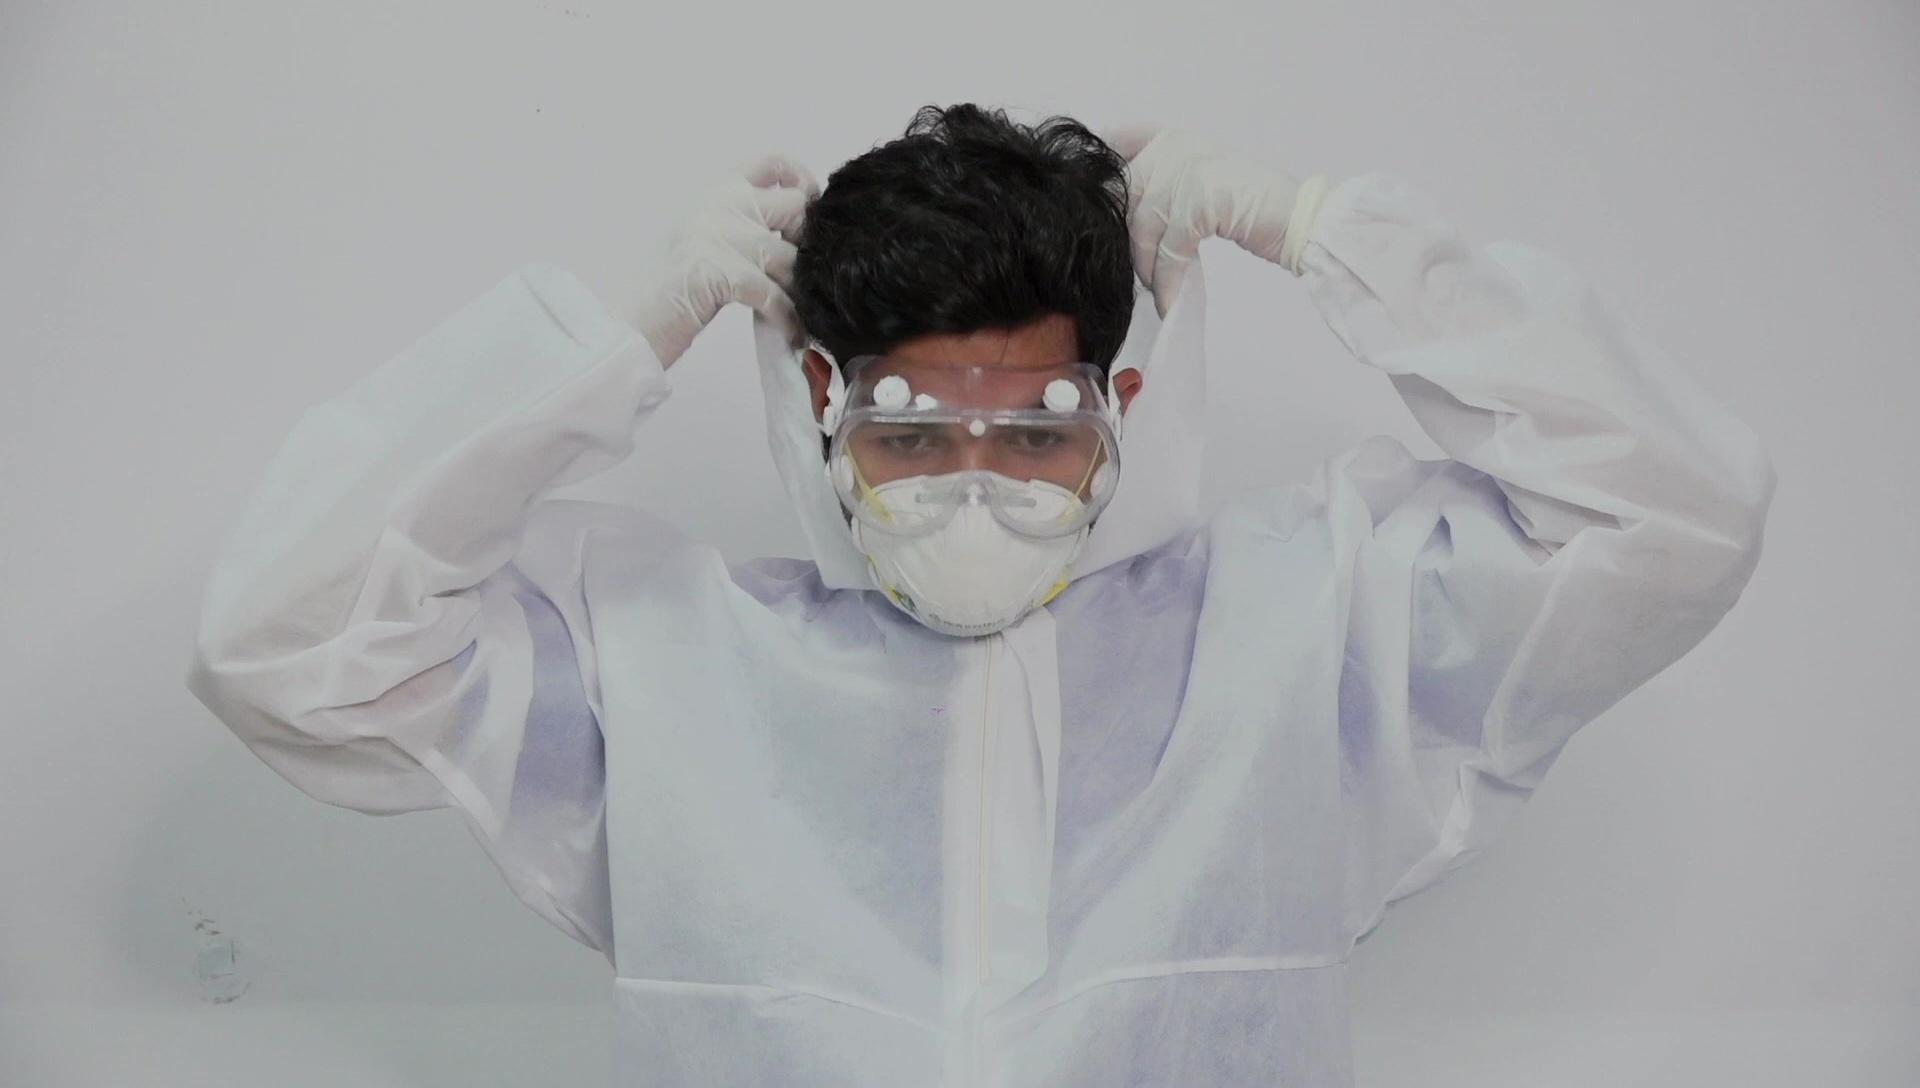Gloves: (1101, 109, 1313, 320), (618, 148, 804, 375)
Goggles: (822, 356, 1127, 541)
